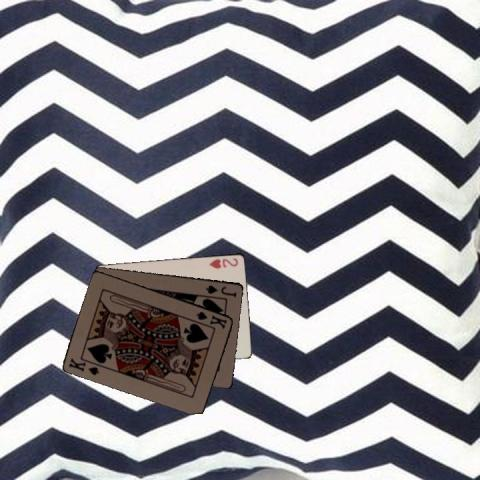2h: (207, 255, 239, 270)
Js: (203, 282, 238, 298)
Ks: (194, 308, 229, 330), (66, 354, 101, 376)
